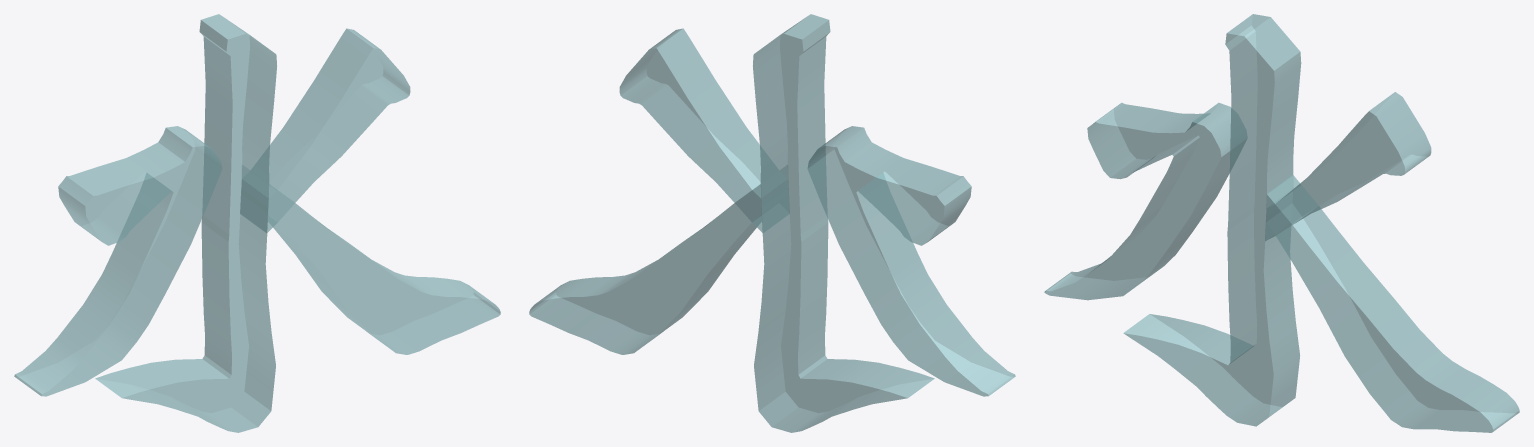
Rendered from water_seperated_character.fbx.
The picture shows the model from 3 angles, left to right: view 1: azimuth 30°, elevation 25°; view 2: azimuth 150°, elevation 25°; view 3: azimuth 330°, elevation 25°; orthographic projection. The views are drawn at different scales.
Parts seen in each view (by area): view 1: water_a, water_b, water_d, water_c; view 2: water_a, water_b, water_d, water_c; view 3: water_a, water_d, water_b, water_c.
Boxes of the visible parts, x1,y1,x2,y2 form: water_a: (95,14,276,432); water_b: (14,126,222,396); water_d: (268,184,500,354); water_c: (240,28,410,232); water_a: (753,14,934,432); water_b: (807,126,1015,396); water_d: (529,184,788,354); water_c: (619,28,789,232); water_a: (1123,14,1301,426); water_d: (1266,175,1519,432); water_b: (1044,102,1246,300); water_c: (1265,92,1431,240).
Size of the model in its own units: 1.56 by 1.29 by 0.1583.
